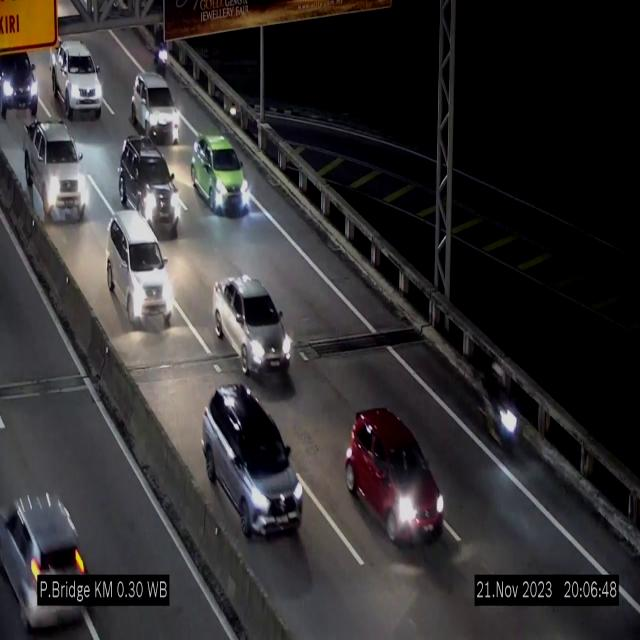Car: (202, 384, 304, 536), (0, 466, 96, 627), (345, 407, 444, 541), (102, 215, 174, 332), (212, 276, 292, 378), (23, 106, 87, 230), (115, 141, 185, 241), (191, 134, 251, 213), (51, 41, 103, 119), (130, 71, 180, 141), (0, 46, 42, 116)
Motorcycle: (482, 361, 518, 459), (155, 24, 171, 78)
